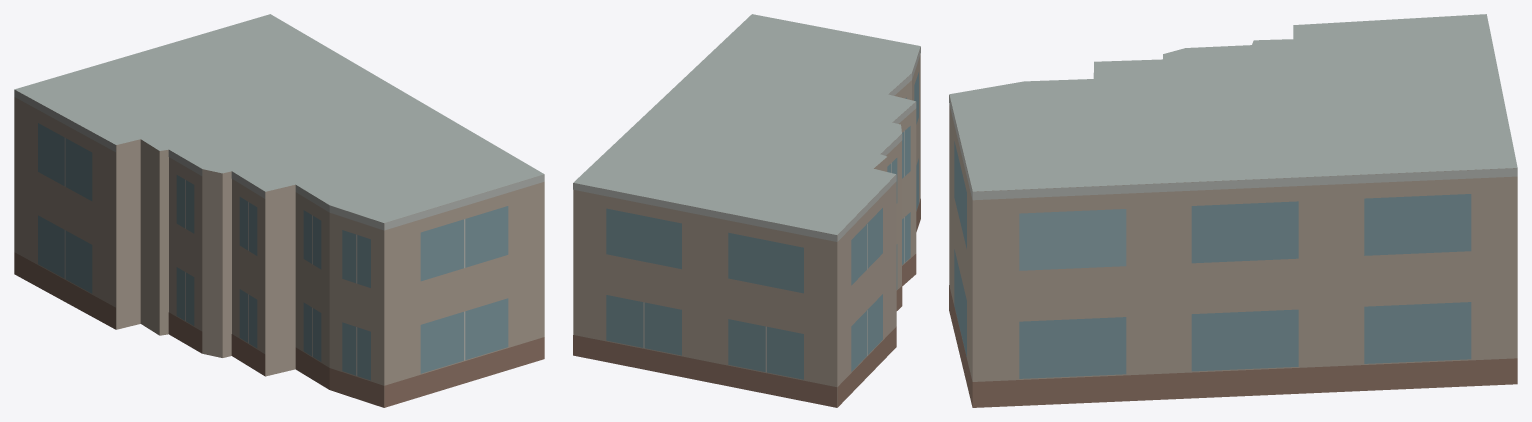
File: survey-upis-32969770.glb
The picture shows the model from 3 angles, left to right: view 1: azimuth 30°, elevation 25°; view 2: azimuth 150°, elevation 25°; view 3: azimuth 270°, elevation 25°; orthographic projection. The views are drawn at different scales.
Parts seen in each view (by area): view 1: survey-upis-32969770.tmp; view 2: survey-upis-32969770.tmp; view 3: survey-upis-32969770.tmp.
Part boxes in pixels (x1=…): survey-upis-32969770.tmp: x1=14, y1=14, x2=544, y2=407; survey-upis-32969770.tmp: x1=573, y1=14, x2=920, y2=407; survey-upis-32969770.tmp: x1=949, y1=14, x2=1517, y2=407.
Bounding box in the file's own units: 10.75 × 6.1 × 14.54.
